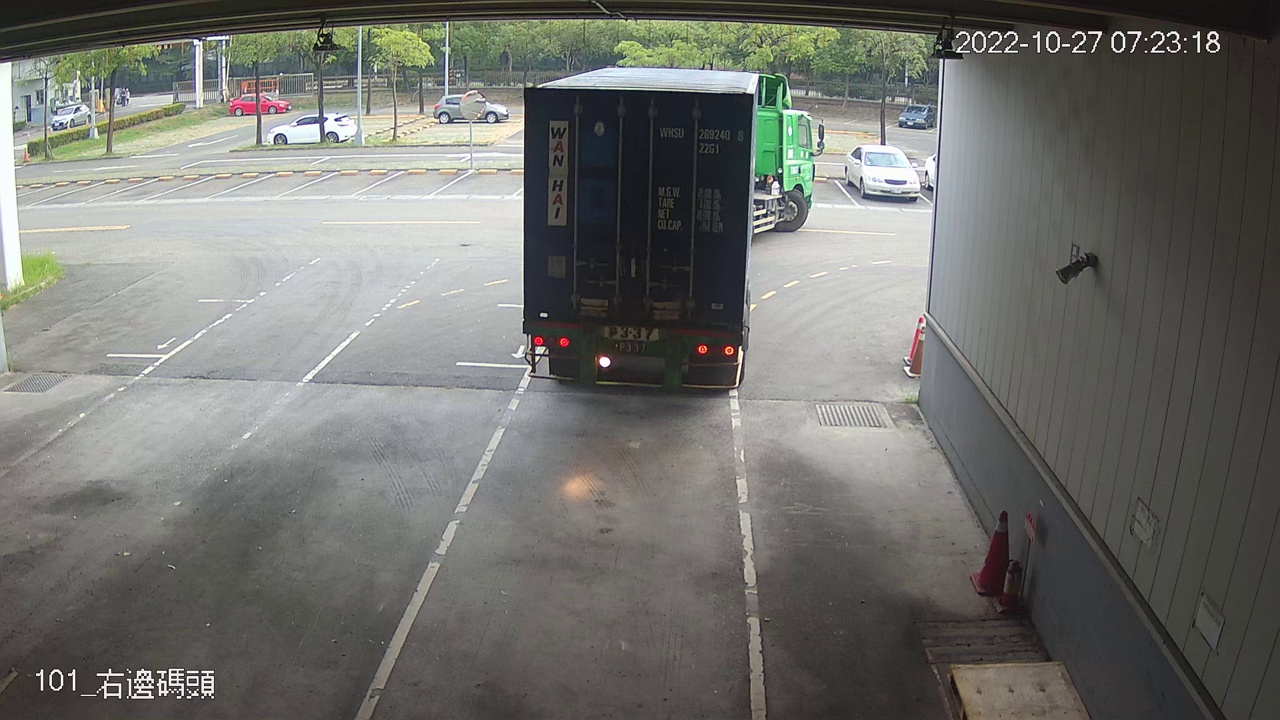container: (655, 119, 747, 160)
